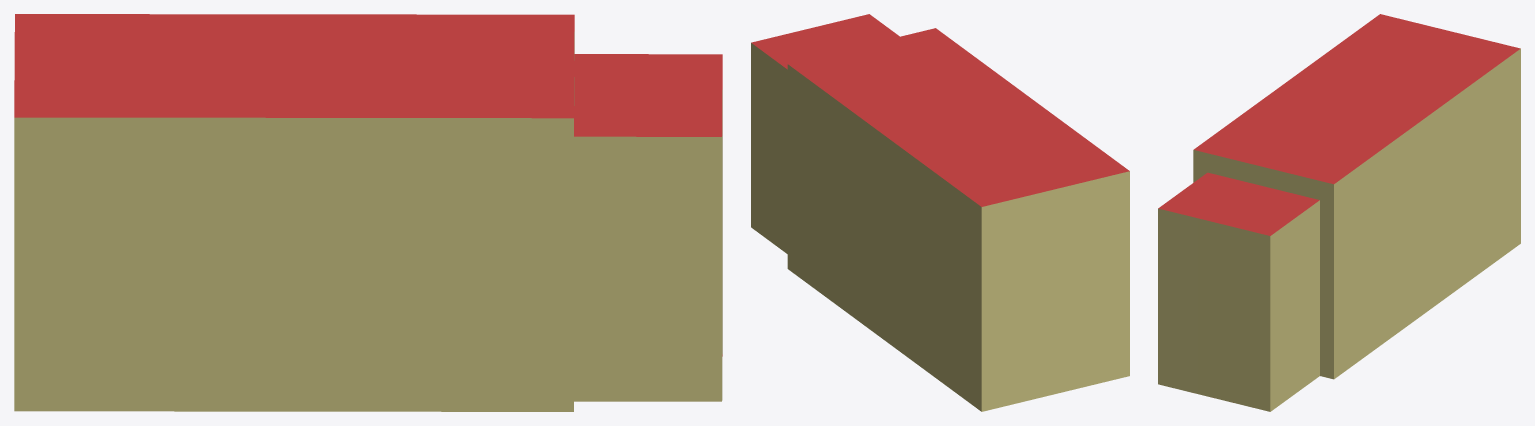
3 views of the same model, side by side, from view 1: azimuth 30°, elevation 25°; view 2: azimuth 150°, elevation 25°; view 3: azimuth 270°, elevation 25° (orthographic). The views are drawn at different scales.
Visible parts, largest first — view 1: group_4, group_3, group_7, group_6; view 2: group_4, group_3, group_7, group_6; view 3: group_4, group_7, group_3, group_6.
Boxes of the visible parts, <box> form: group_4: <box>14,32,574,411</box>; group_3: <box>14,14,574,118</box>; group_7: <box>574,90,722,401</box>; group_6: <box>574,54,722,136</box>; group_4: <box>787,64,1129,411</box>; group_3: <box>788,28,1129,206</box>; group_7: <box>751,43,787,253</box>; group_6: <box>751,14,899,69</box>; group_4: <box>1193,48,1520,379</box>; group_7: <box>1158,200,1319,411</box>; group_3: <box>1193,14,1520,184</box>; group_6: <box>1158,172,1319,235</box>.
Size of the model in its own units: 18.33 by 13.85 by 8.22.
